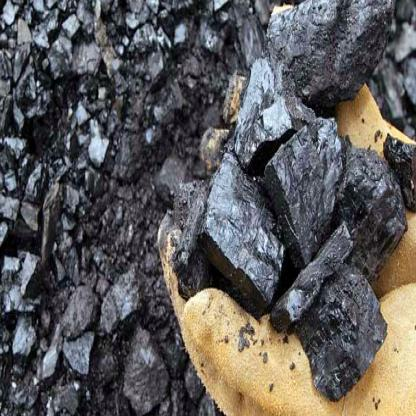Sedimentary_coal: (179, 149, 288, 315), (269, 102, 353, 268), (284, 254, 388, 388), (373, 125, 415, 205)
